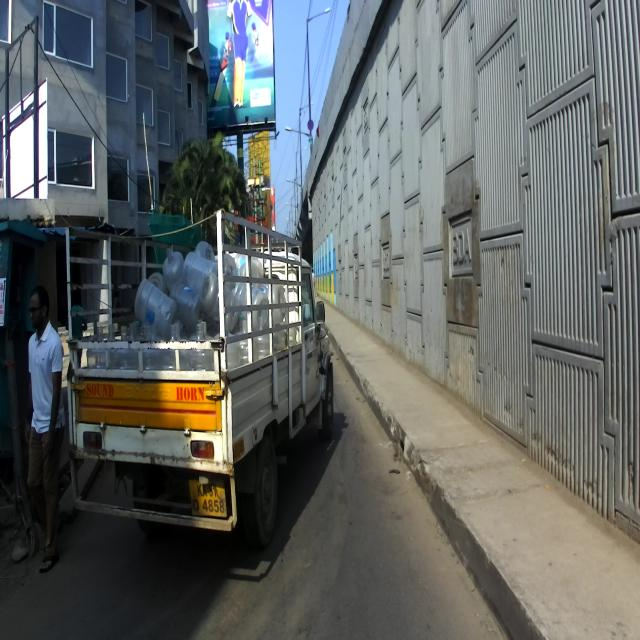person ahead at: (26, 289, 65, 564)
truck ahead at: (51, 210, 342, 556)
